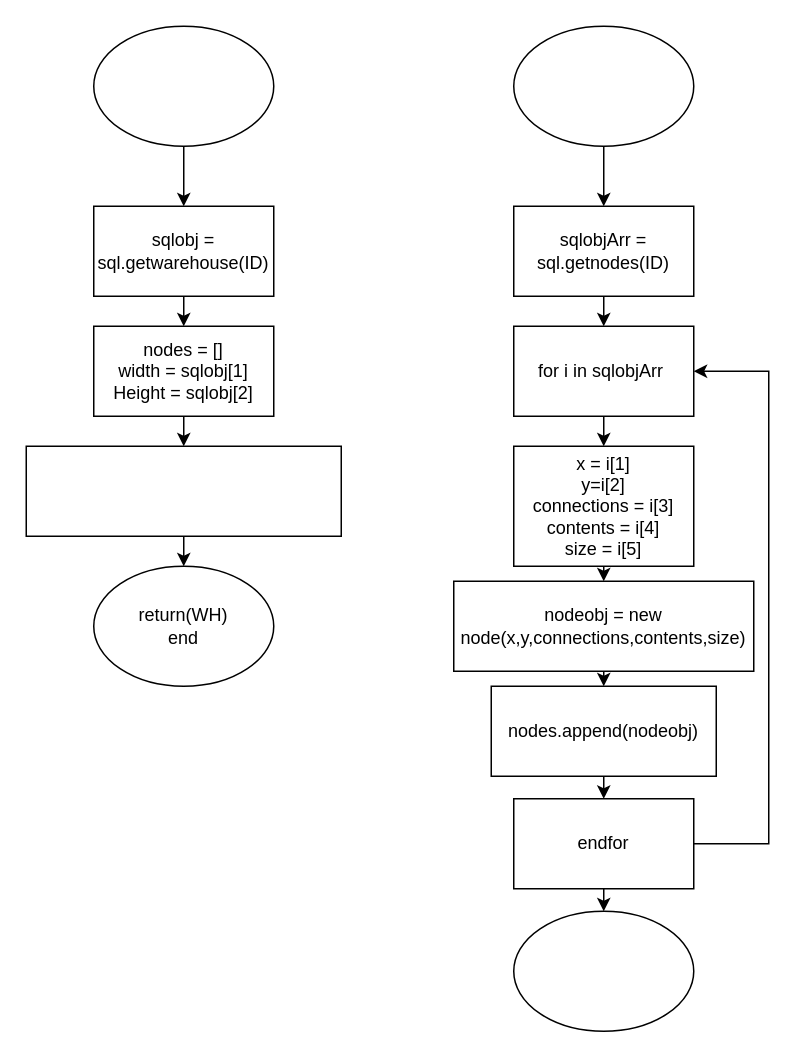
The diagram is 807 pixels wide and 1058 high, and some of its shapes have lost their labels. The shapes that lost their labels are listed below. From the top down, each one's centre as x and y in pixels, then its label:
pixel 183 85: start GetWarehouse(ID)
pixel 603 85: start getNodes(ID)
pixel 183 490: WH = new warehouse(ID,nodes,width,height)
pixel 603 970: return nodes end
